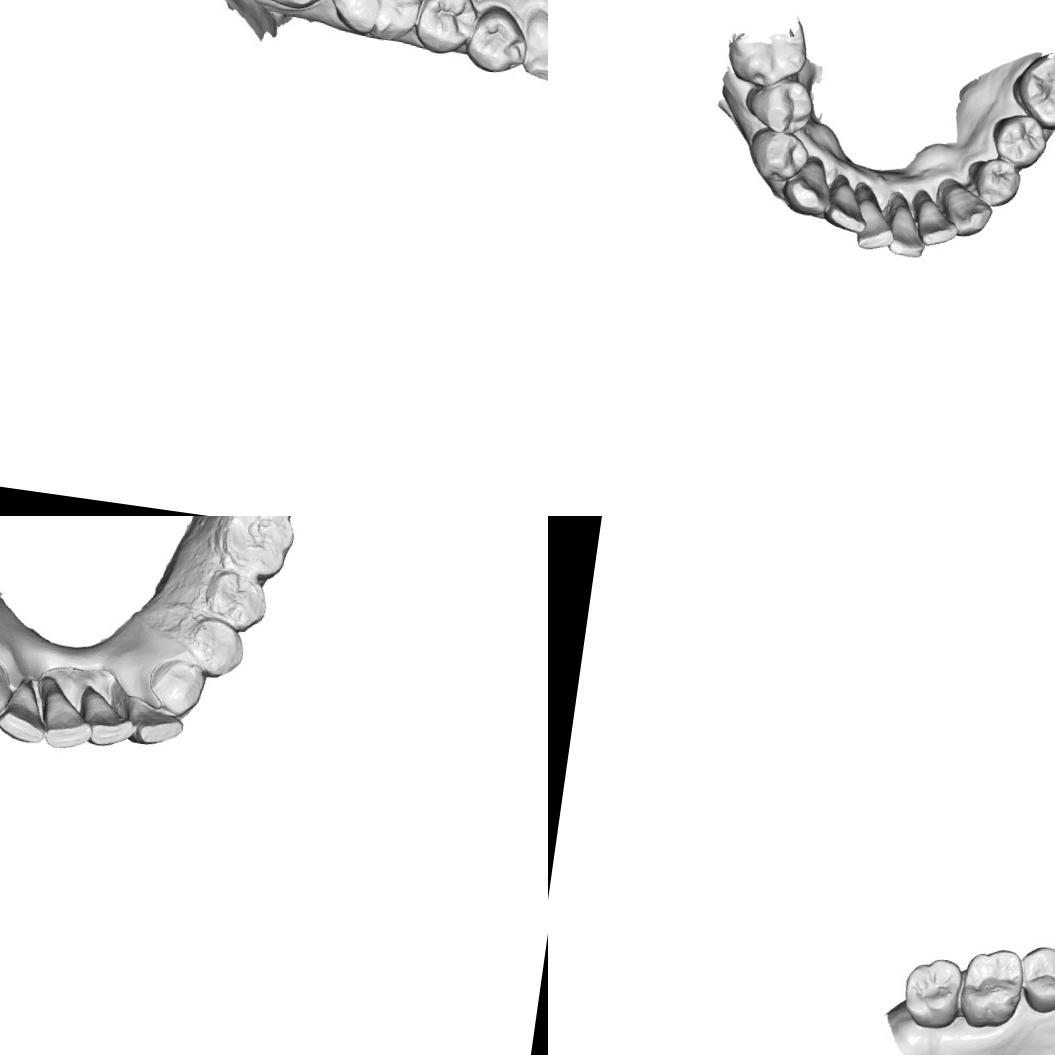canine: (932, 176, 996, 241), (781, 151, 836, 220), (514, 0, 548, 92), (0, 651, 15, 722)
incisor: (845, 179, 902, 254), (41, 684, 97, 756), (880, 188, 934, 261), (0, 674, 54, 747), (126, 691, 188, 751), (84, 685, 137, 753), (906, 187, 963, 250), (820, 170, 873, 234)
molar: (722, 11, 812, 94), (956, 942, 1028, 1034), (898, 952, 965, 1034), (322, 0, 434, 44), (220, 516, 298, 578), (1006, 45, 1055, 136)
premolar: (460, 2, 536, 84), (741, 73, 819, 137), (410, 0, 487, 61), (743, 122, 813, 188), (202, 563, 271, 628), (987, 110, 1051, 173), (183, 614, 245, 679), (962, 154, 1024, 211), (1013, 942, 1055, 1018)
